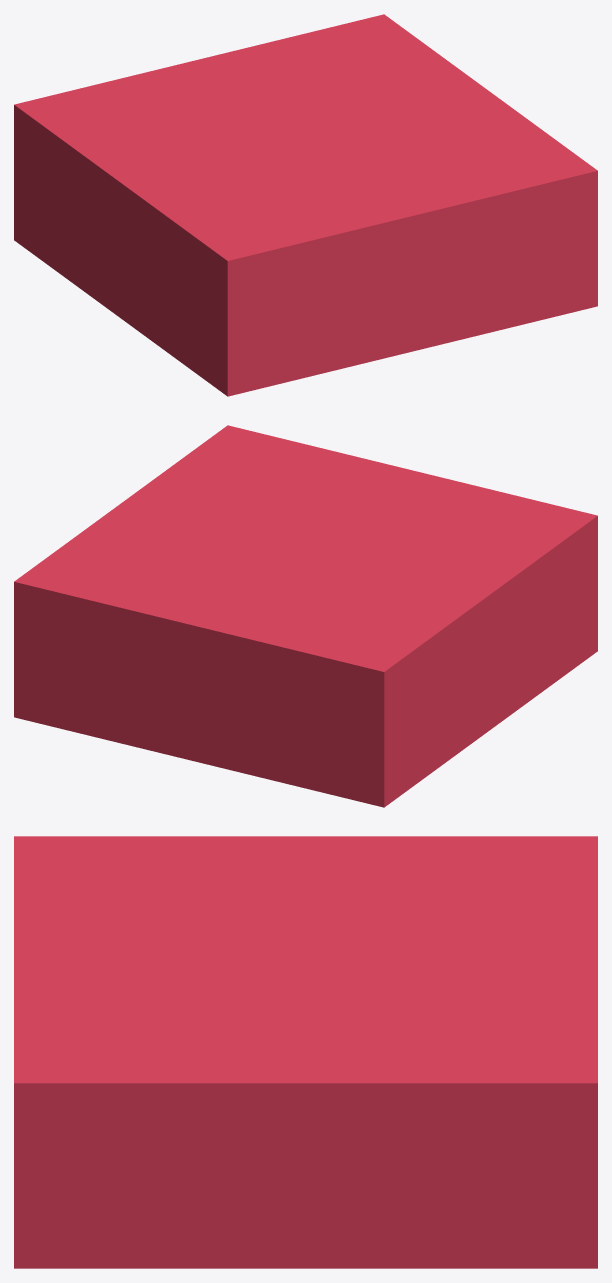
Rendered from Itr_Obj_Stickynote_Box_01.FBX.
3 renders of one model, top to bottom at view 1: azimuth 30°, elevation 25°; view 2: azimuth 150°, elevation 25°; view 3: azimuth 270°, elevation 25°, orthographic. The views are drawn at different scales.
Visible parts, largest first — view 1: Itr_Obj_Stickynote_Box_01; view 2: Itr_Obj_Stickynote_Box_01; view 3: Itr_Obj_Stickynote_Box_01.
Boxes of the visible parts, <box> form: Itr_Obj_Stickynote_Box_01: <box>14,14,597,396</box>; Itr_Obj_Stickynote_Box_01: <box>14,425,597,807</box>; Itr_Obj_Stickynote_Box_01: <box>14,836,597,1268</box>.
Size of the model in its own units: 3.94 by 1.38 by 3.94.
